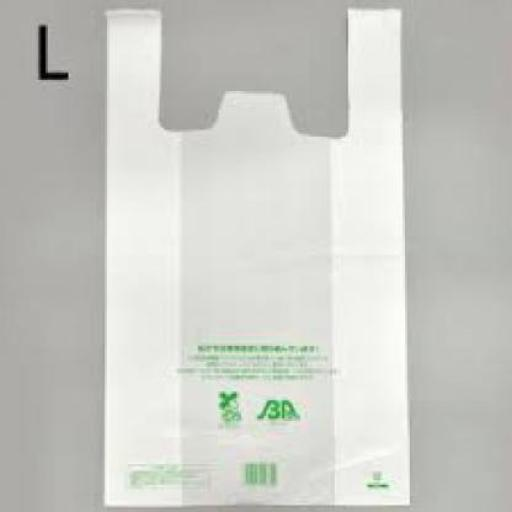plastic: (97, 4, 410, 503)
